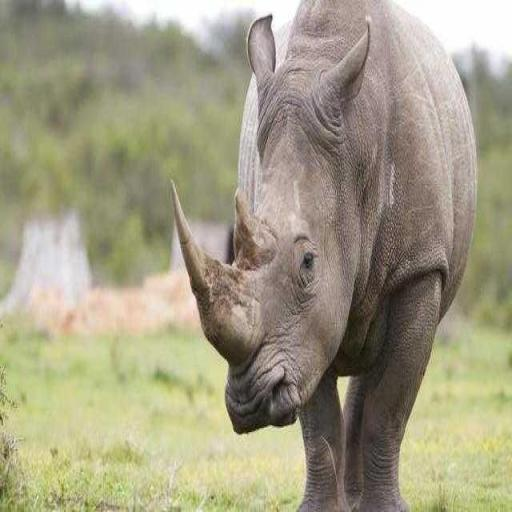Rhino: (168, 0, 479, 511)
